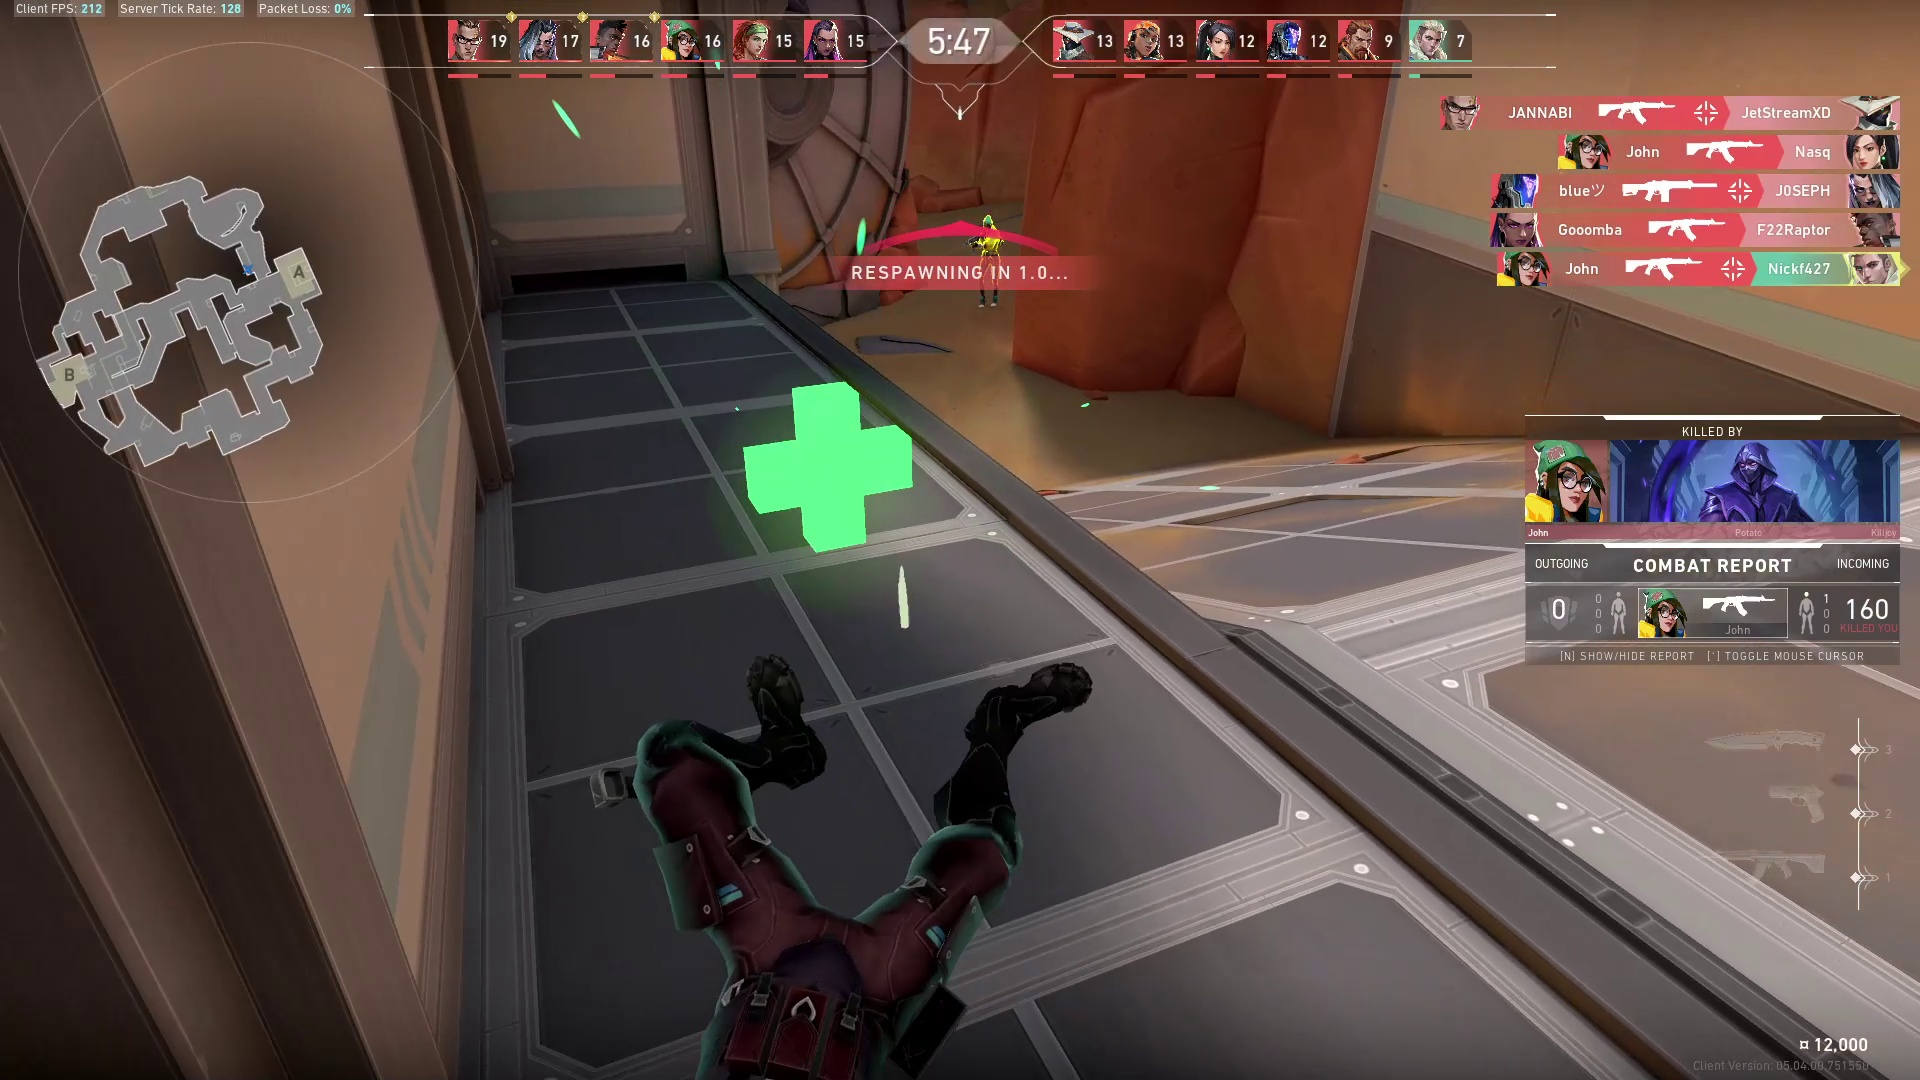enemy_gen: (969, 210, 1005, 316)
